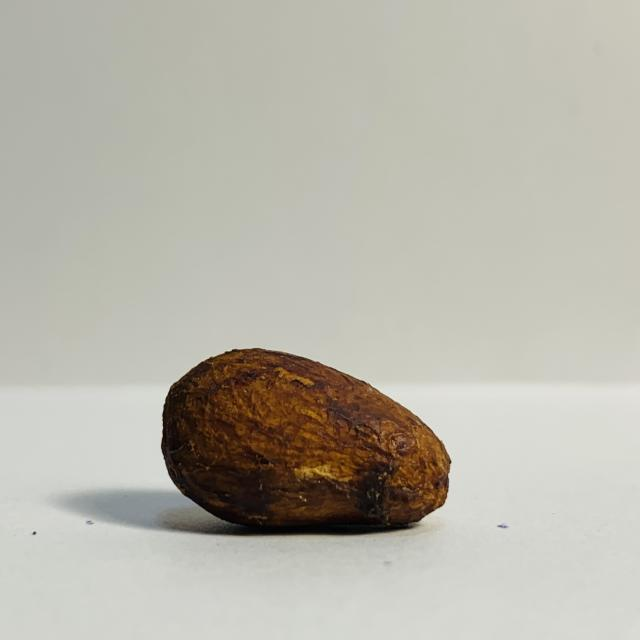Fine_cocoabeans: (62, 320, 514, 567)
